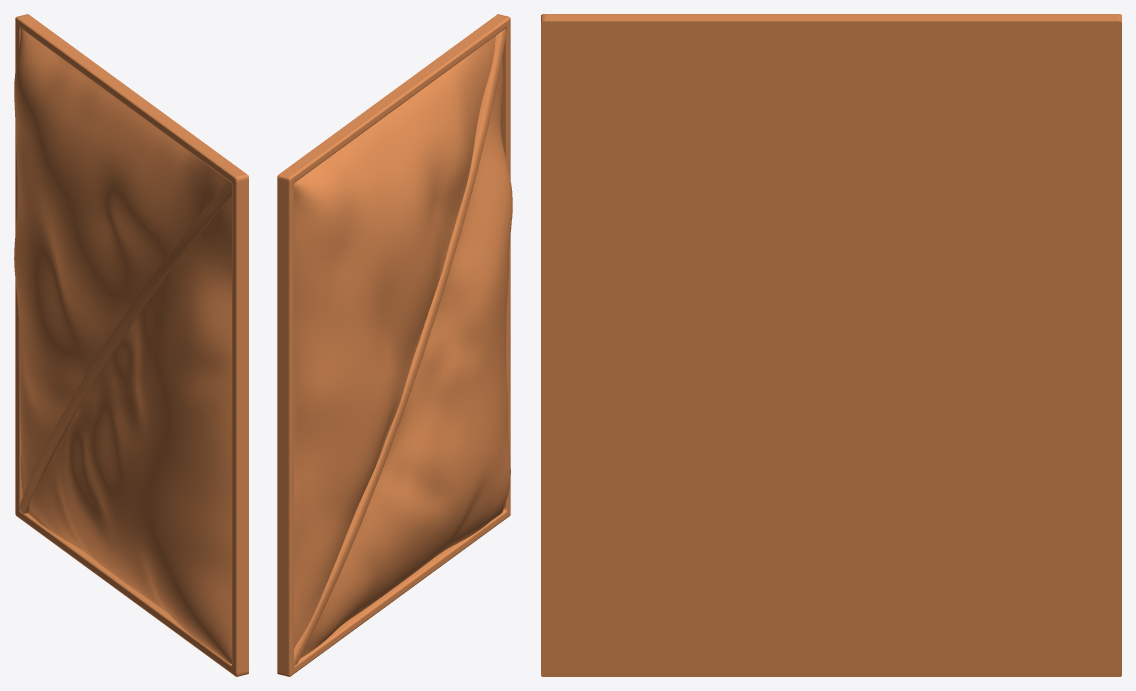
Rendered from WallPanel01.fbx.
3 views of the same model, side by side, from view 1: azimuth 30°, elevation 25°; view 2: azimuth 150°, elevation 25°; view 3: azimuth 270°, elevation 25° (orthographic). The views are drawn at different scales.
Parts seen in each view (by area): view 1: SM_WallPanel01; view 2: SM_WallPanel01; view 3: SM_WallPanel01.
Boxes of the visible parts, x1=… form: SM_WallPanel01: x1=14, y1=14, x2=248, y2=676; SM_WallPanel01: x1=277, y1=14, x2=512, y2=676; SM_WallPanel01: x1=541, y1=14, x2=1121, y2=676.
Bounding box in the file's own units: 15.93 × 152 × 122.
